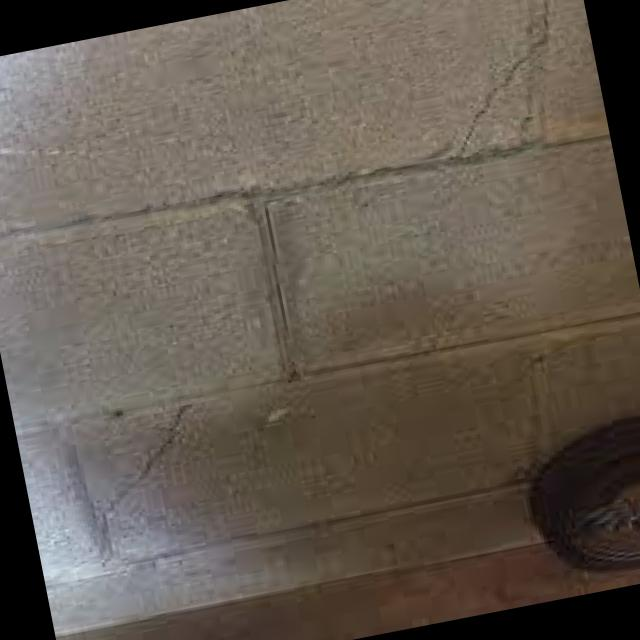crack: (428, 0, 589, 152), (84, 396, 216, 531)
